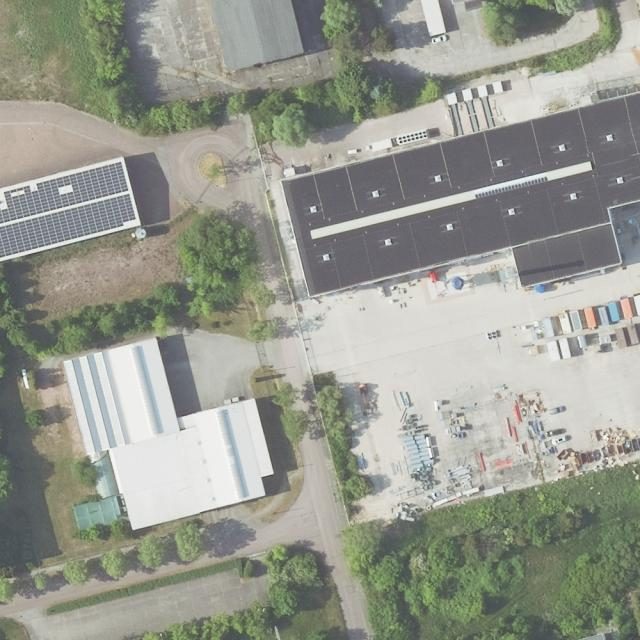PV: (0, 193, 136, 257), (0, 161, 129, 224)
